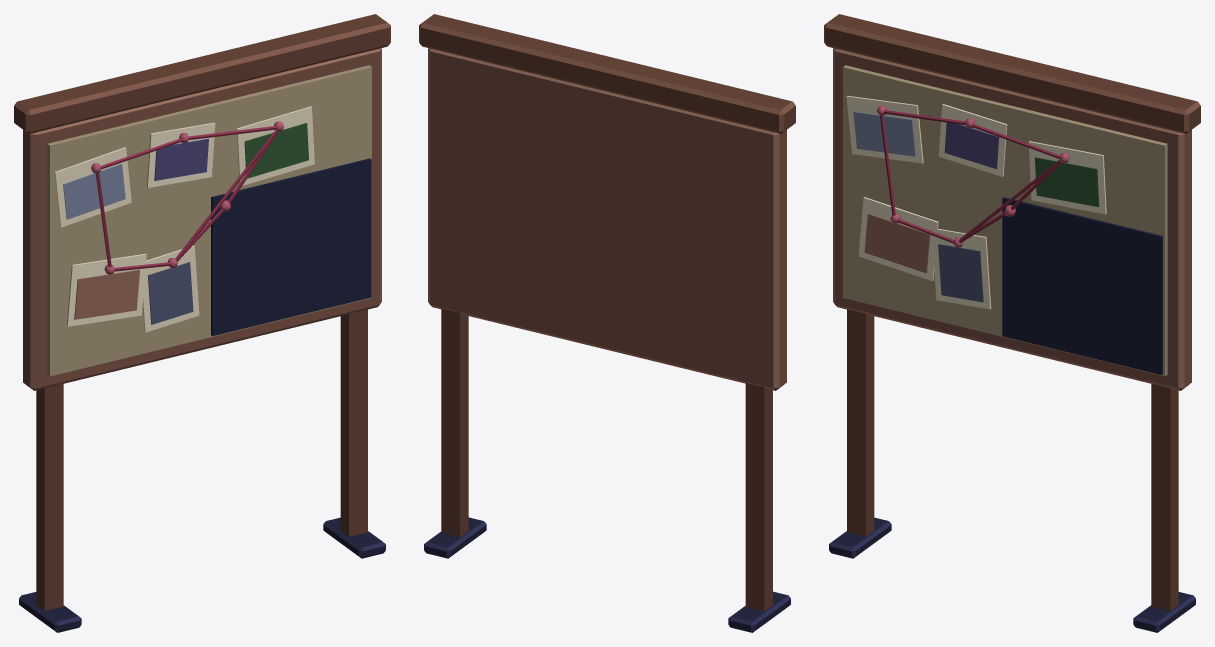
Rendered from JobBoard.fbx.
The picture shows the model from 3 angles, left to right: view 1: azimuth 30°, elevation 25°; view 2: azimuth 150°, elevation 25°; view 3: azimuth 330°, elevation 25°; orthographic projection.
Visible parts, largest first — view 1: JobBoard; view 2: JobBoard; view 3: JobBoard.
Boxes of the visible parts, <box> form: JobBoard: <box>14,14,390,632</box>; JobBoard: <box>419,14,795,632</box>; JobBoard: <box>824,14,1200,632</box>.
Size of the model in its own units: 5.4 by 7.32 by 1.
1 material, 1 textured.
